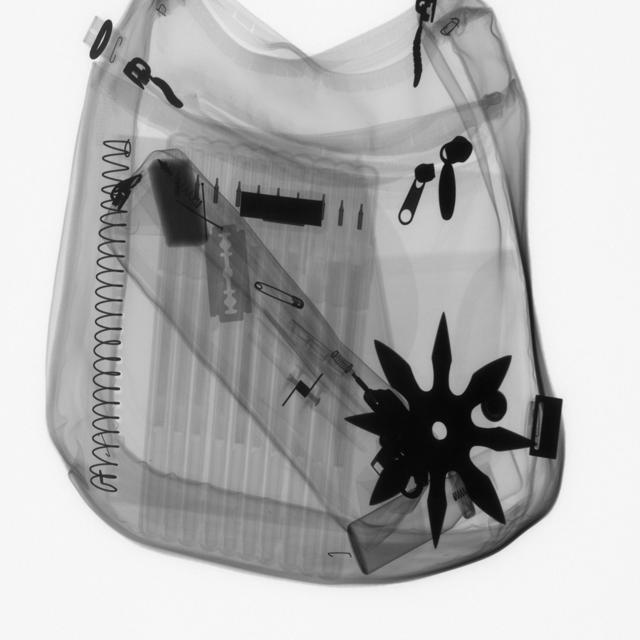razor: (199, 223, 260, 328)
shuriken: (358, 312, 534, 547)
